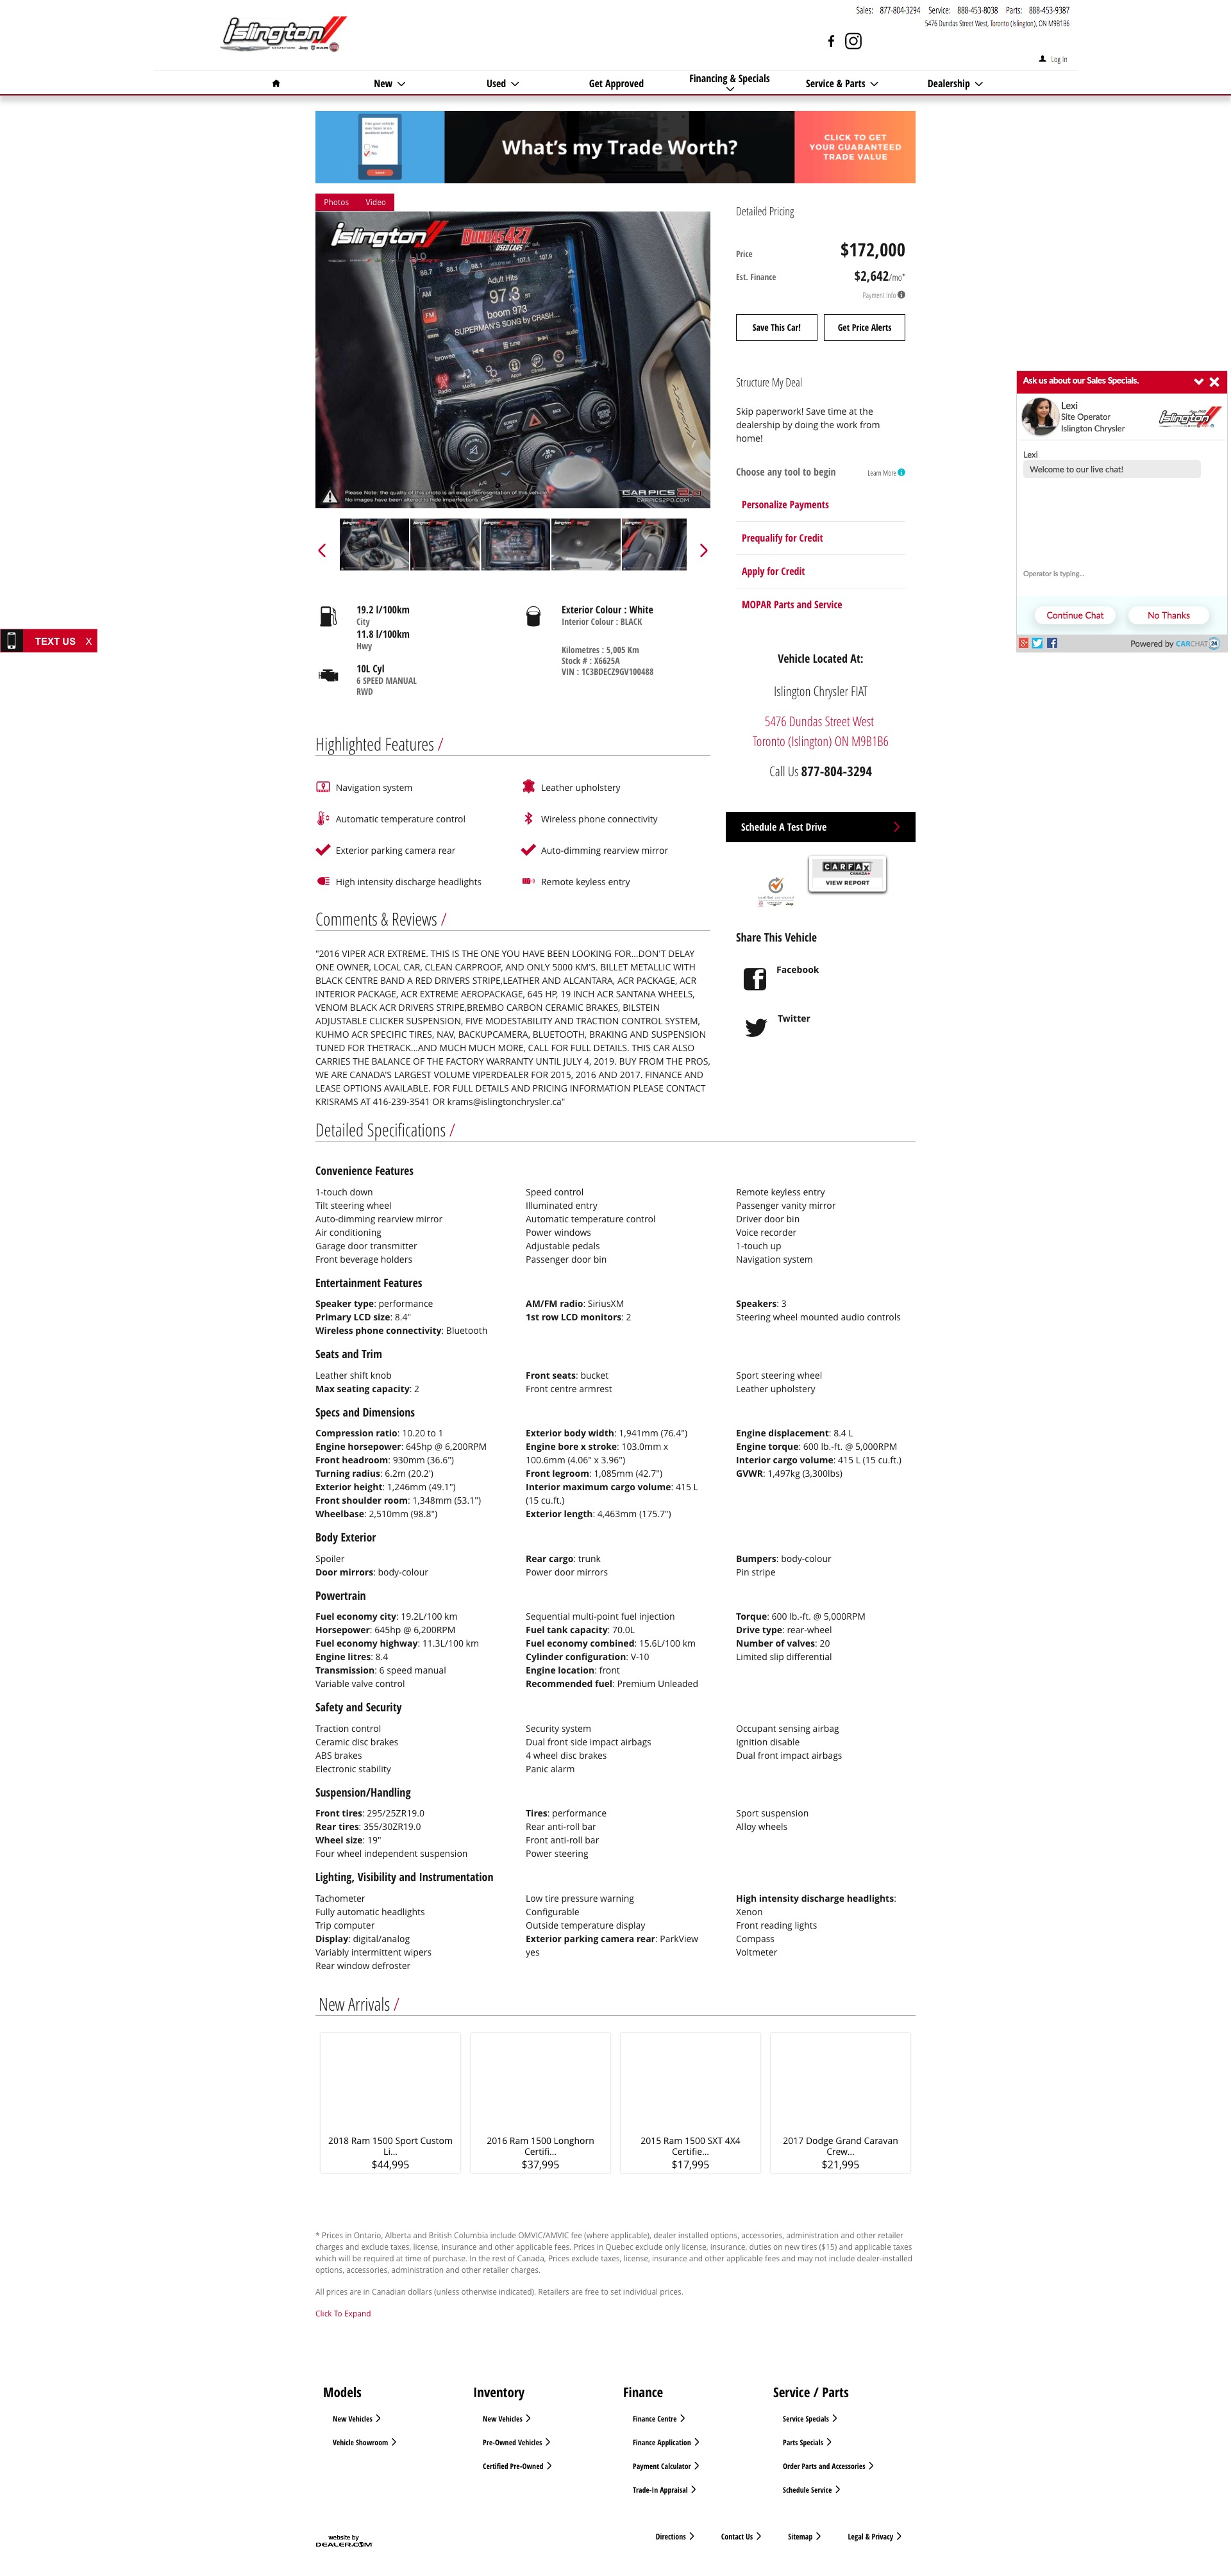car: (700, 544, 708, 559)
